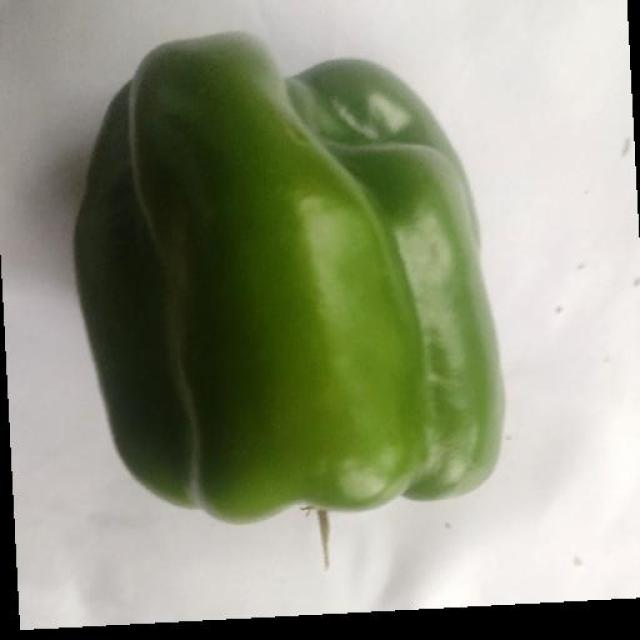Fresh_Capsicum: (56, 0, 512, 525)
